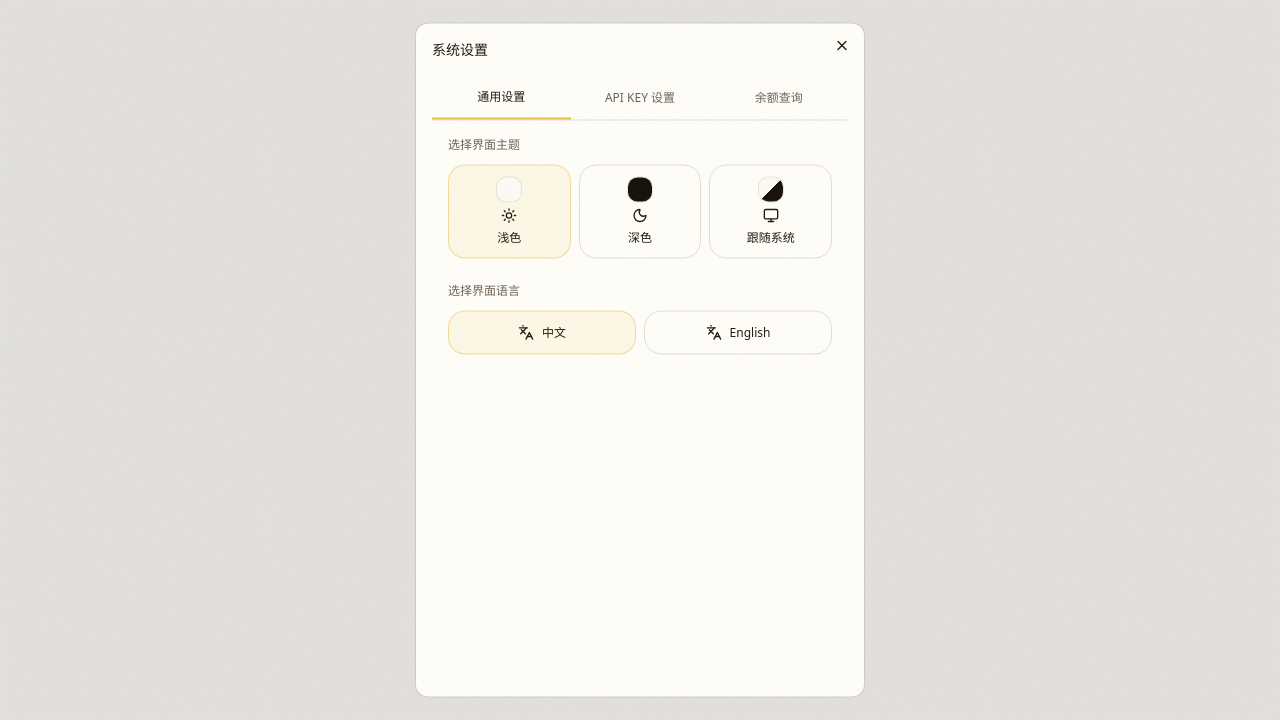
it: SettingsDialog › 眼睛按钮切换密码可见性
The image size is (1280, 720).
Click the button "API KEY 设置" at (640, 98), box x1=571 y1=76 x2=709 y2=120
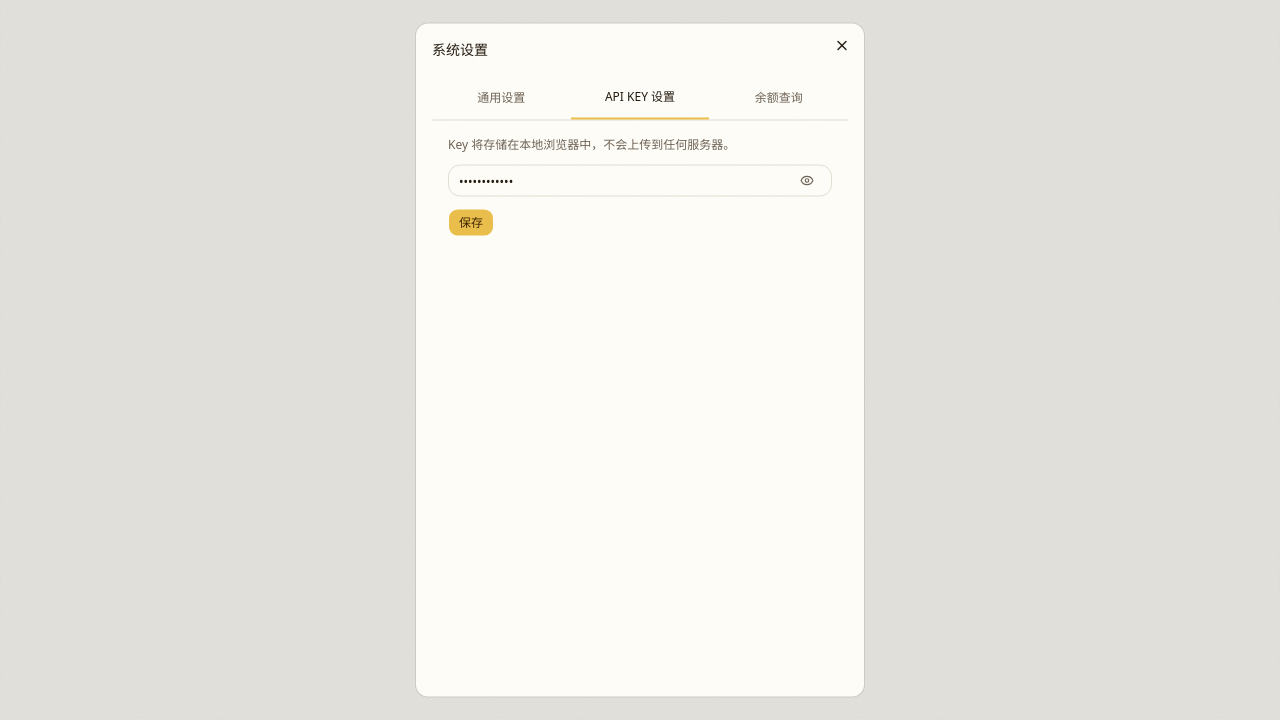
Click the button without text below "Key 将存储在本地浏览器中，不会上传到任何服务器。" at (812, 180), box x1=800 y1=168 x2=824 y2=192
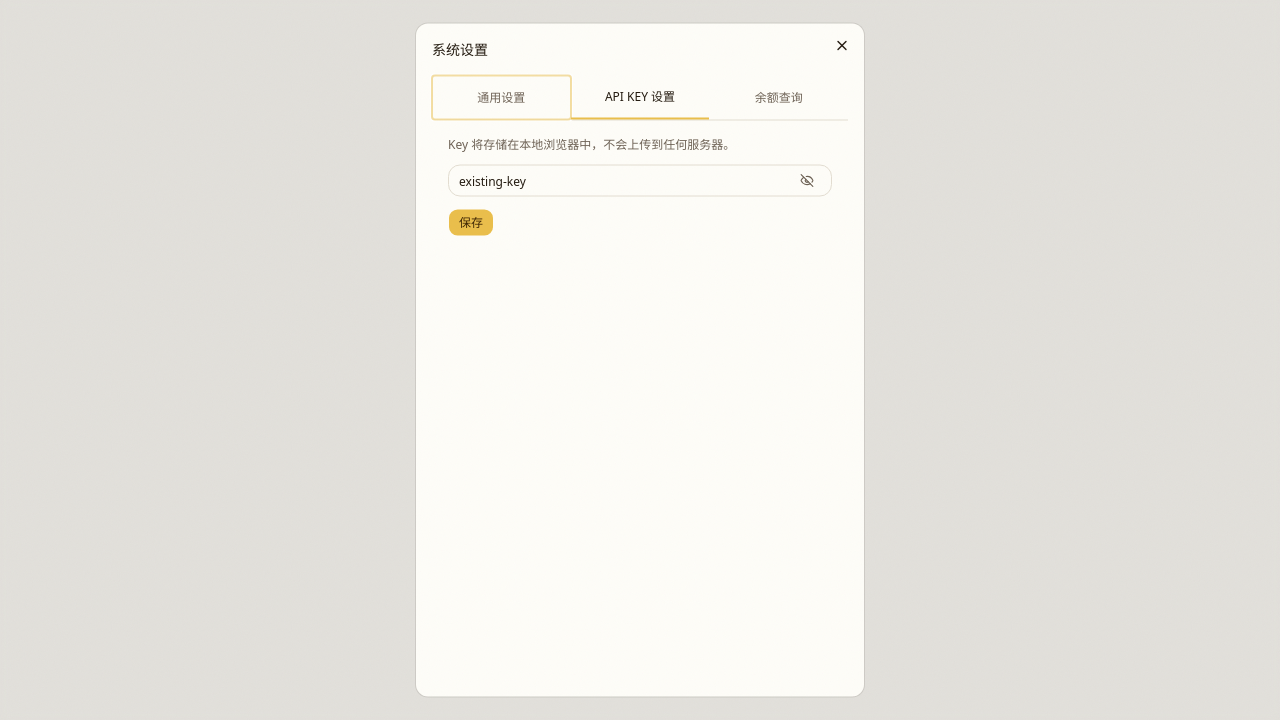
Check: the field showing "existing-key" shows its text, box x1=448 y1=164 x2=832 y2=196
